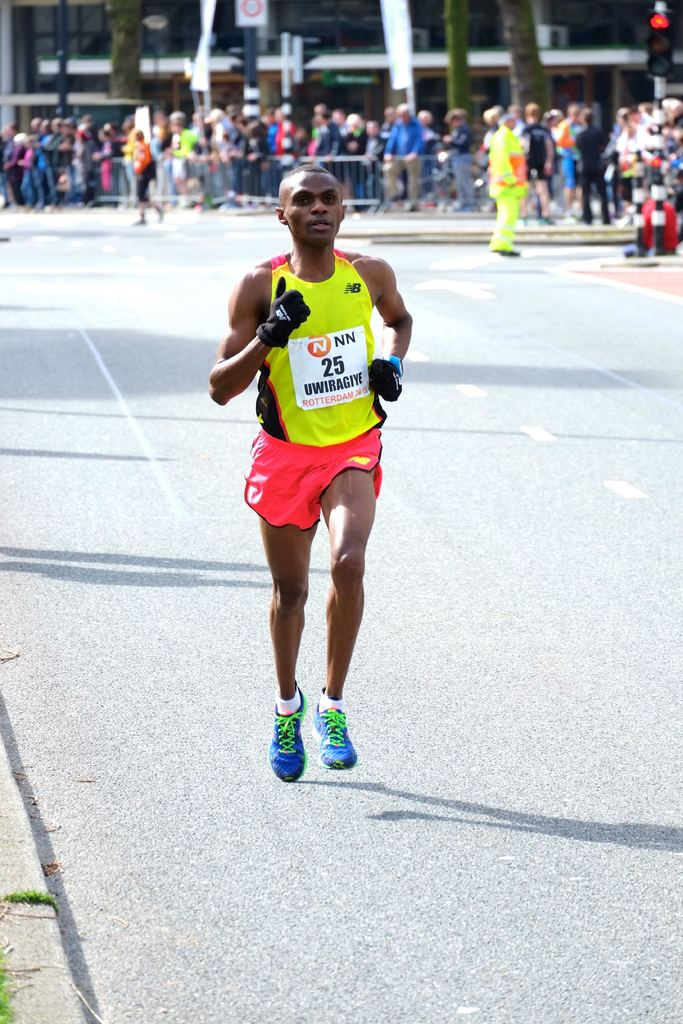Person: (207, 164, 412, 785), (0, 99, 683, 255)
